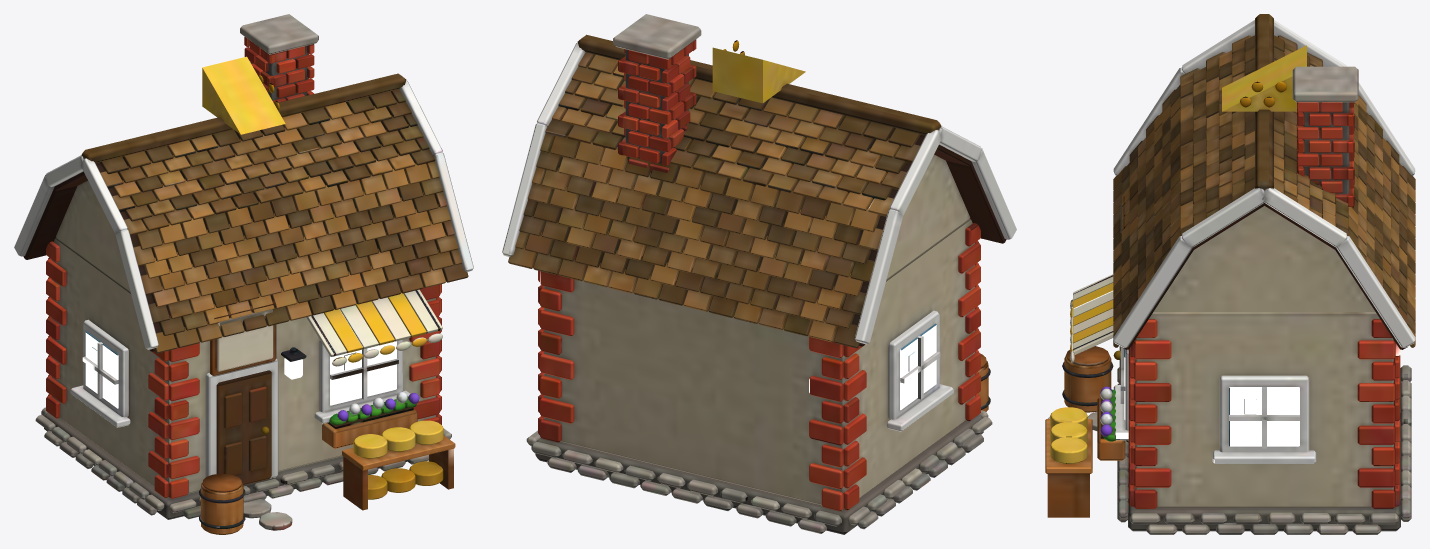
The model's file is cheese_cave.glb.
3 renders of one model, left to right at view 1: azimuth 30°, elevation 25°; view 2: azimuth 150°, elevation 25°; view 3: azimuth 270°, elevation 25°, orthographic. The views are drawn at different scales.
Visible parts, largest first — view 1: cheese_cave; view 2: cheese_cave; view 3: cheese_cave.
Part boxes in pixels (box(x1,y1,x2,y2)): cheese_cave: box(14, 14, 473, 534); cheese_cave: box(502, 14, 1016, 534); cheese_cave: box(1045, 14, 1415, 534).
Size of the model in its own units: 1.74 by 1.93 by 1.57.
1 material, 1 textured.
